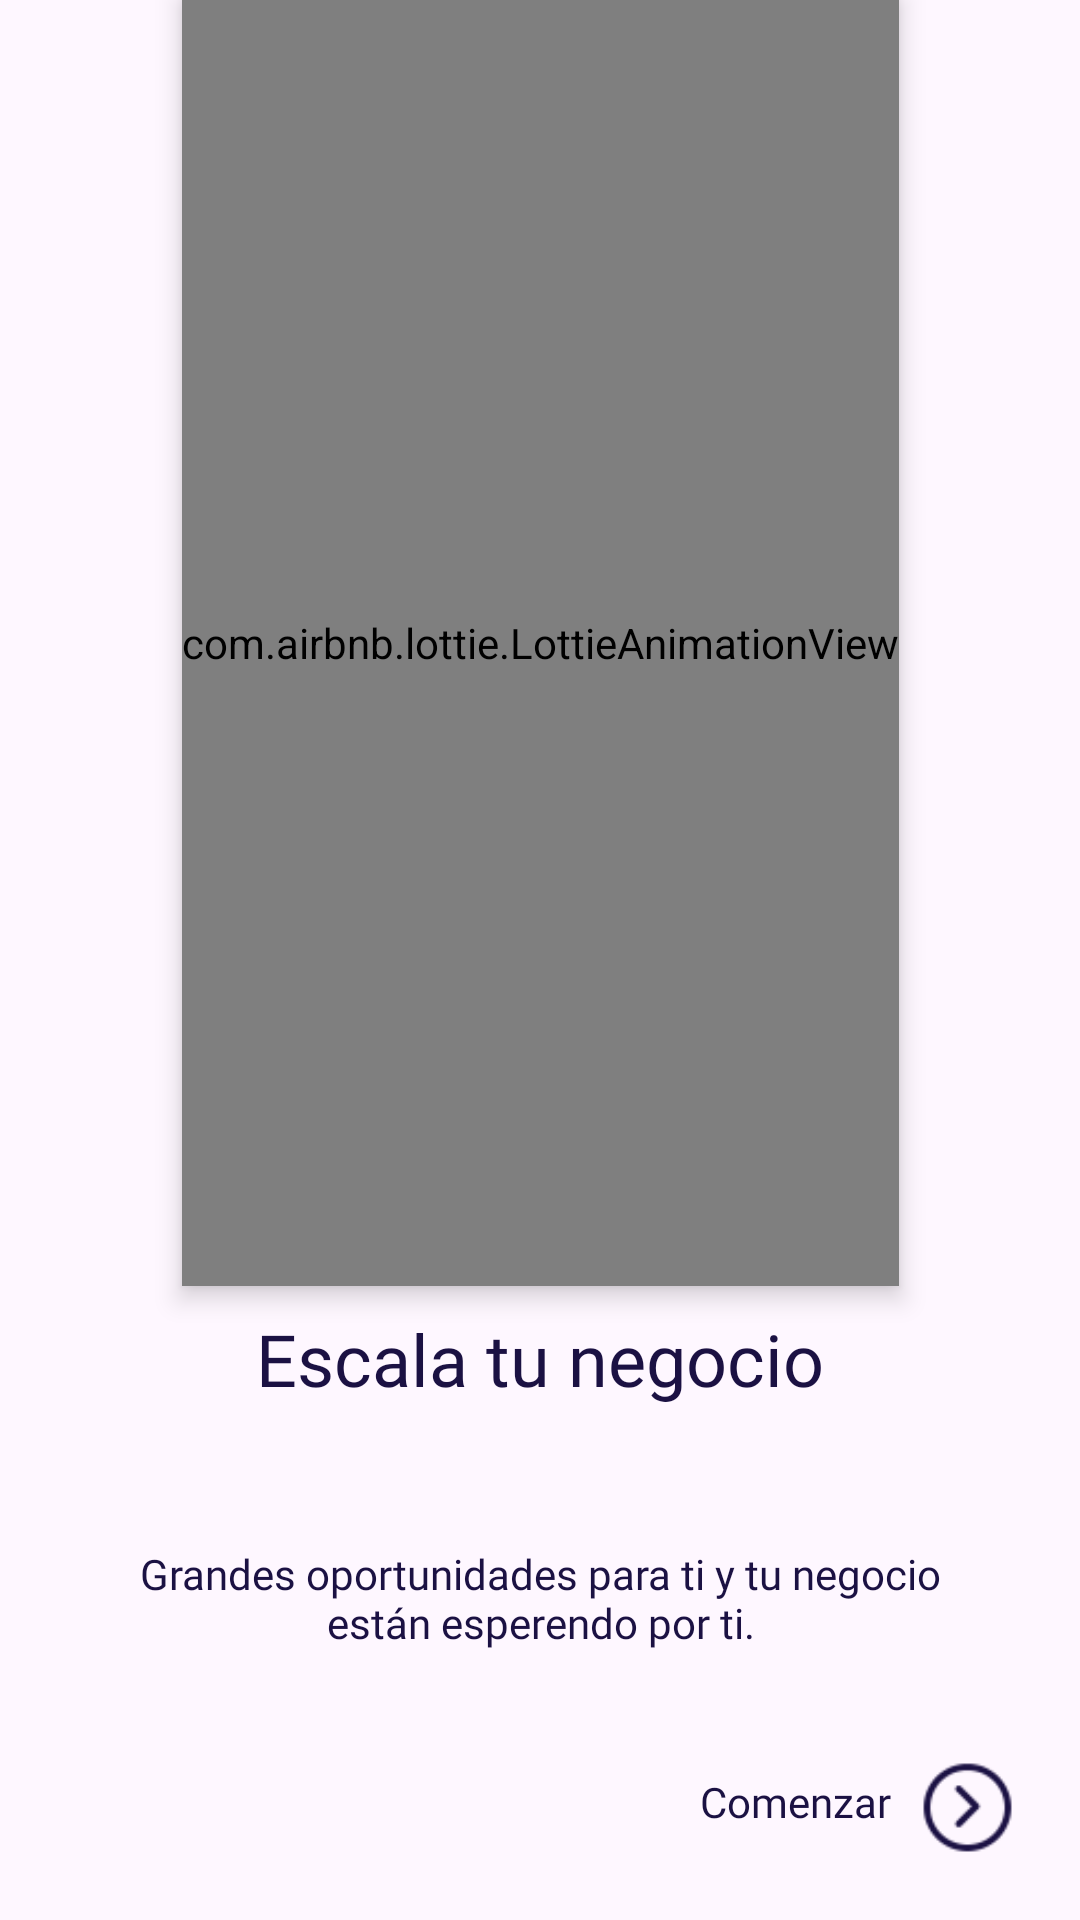

Named icons in this screenshot (1080×1920) and their centers, [x,y]:
next page: [967,1807]
